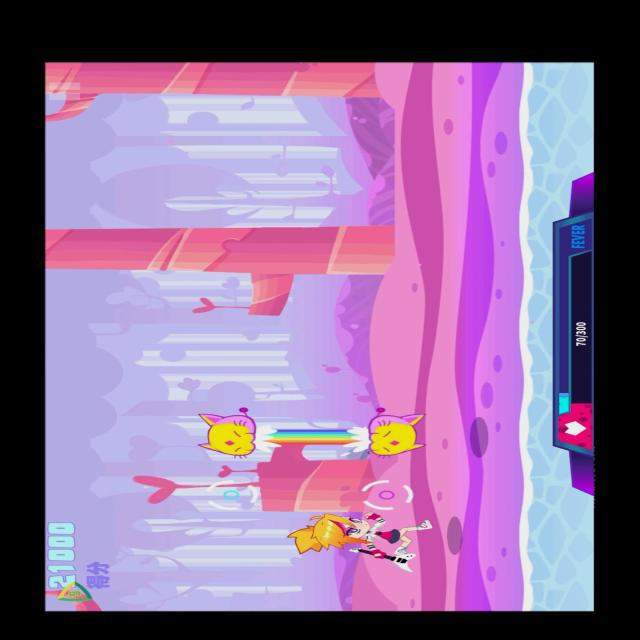shuangya: (196, 404, 432, 460)
